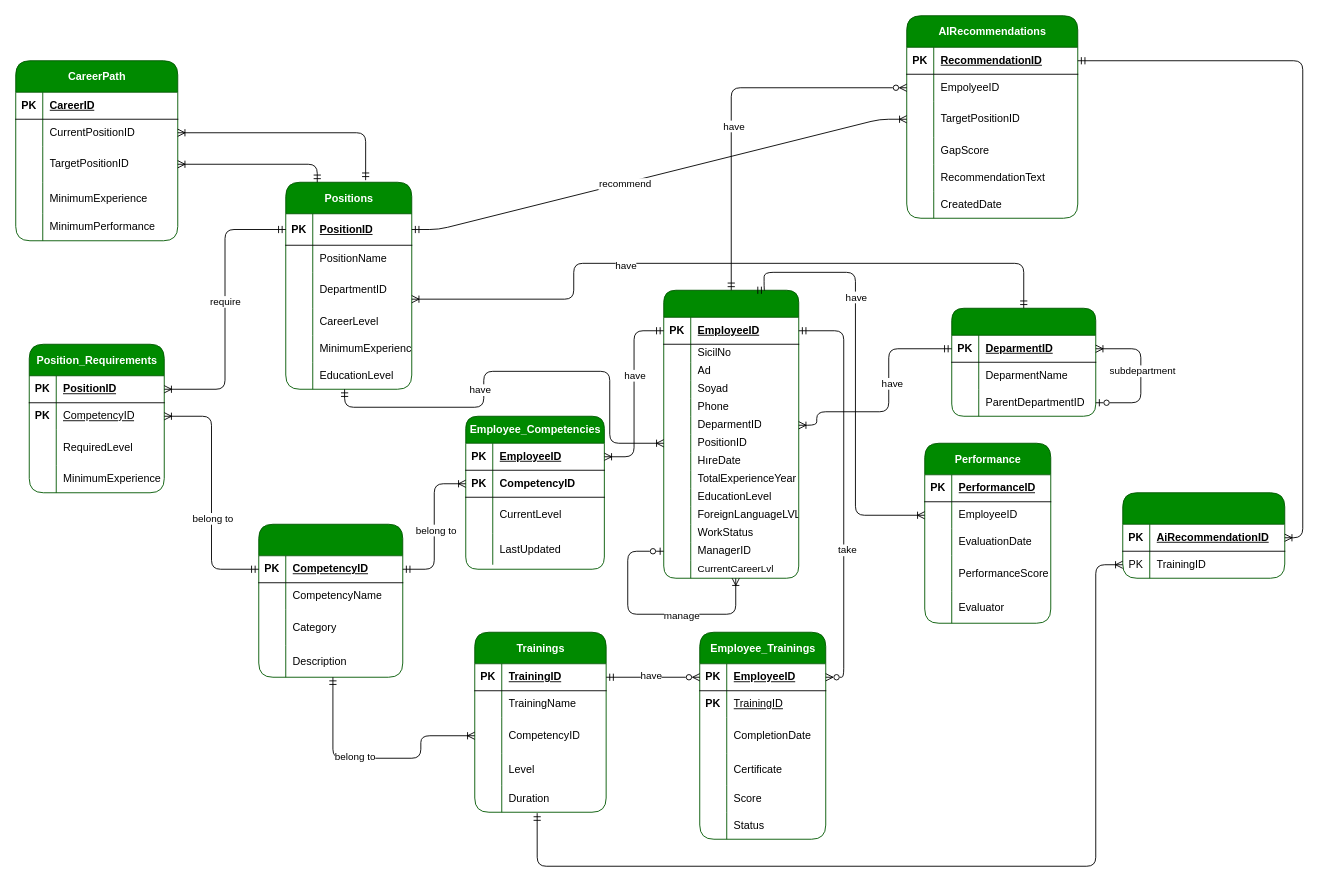
The diagram is 1327 pixels wide and 890 high, and some of its shapes have lost their labels. Here are the shapes that lost their labels. From the top down, the box of each, then its label:
(951, 307, 1096, 416): Deparments
(663, 289, 799, 578): Employees
(1122, 492, 1285, 578): Recommendation_Training
(258, 523, 403, 677): Competencies
